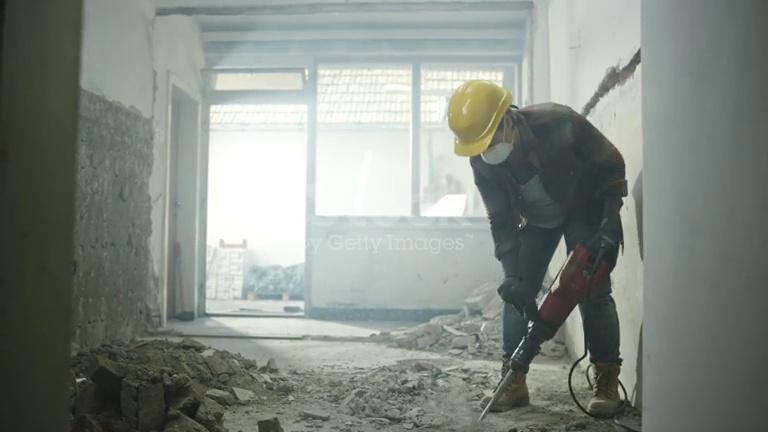helmet: (446, 80, 512, 157)
mask: (478, 141, 514, 166)
person: (448, 77, 630, 421)
